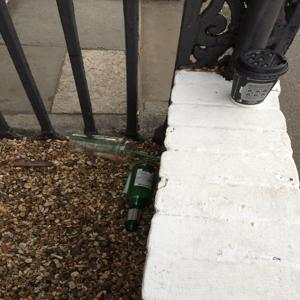cardboard: (229, 71, 284, 111)
glass: (126, 160, 145, 225)
plastic: (62, 129, 151, 166), (236, 46, 282, 82)
